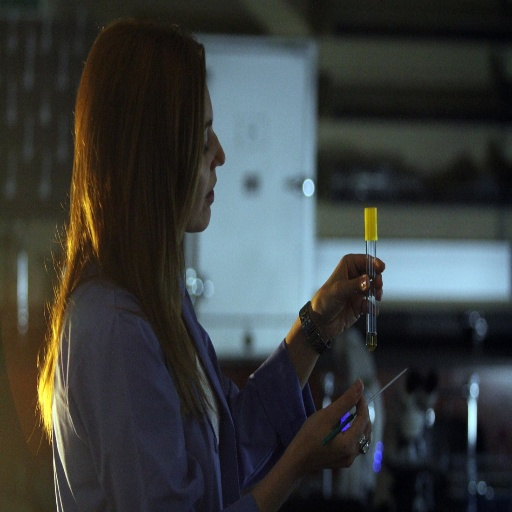hand: (302, 244, 387, 348), (296, 375, 373, 470)
